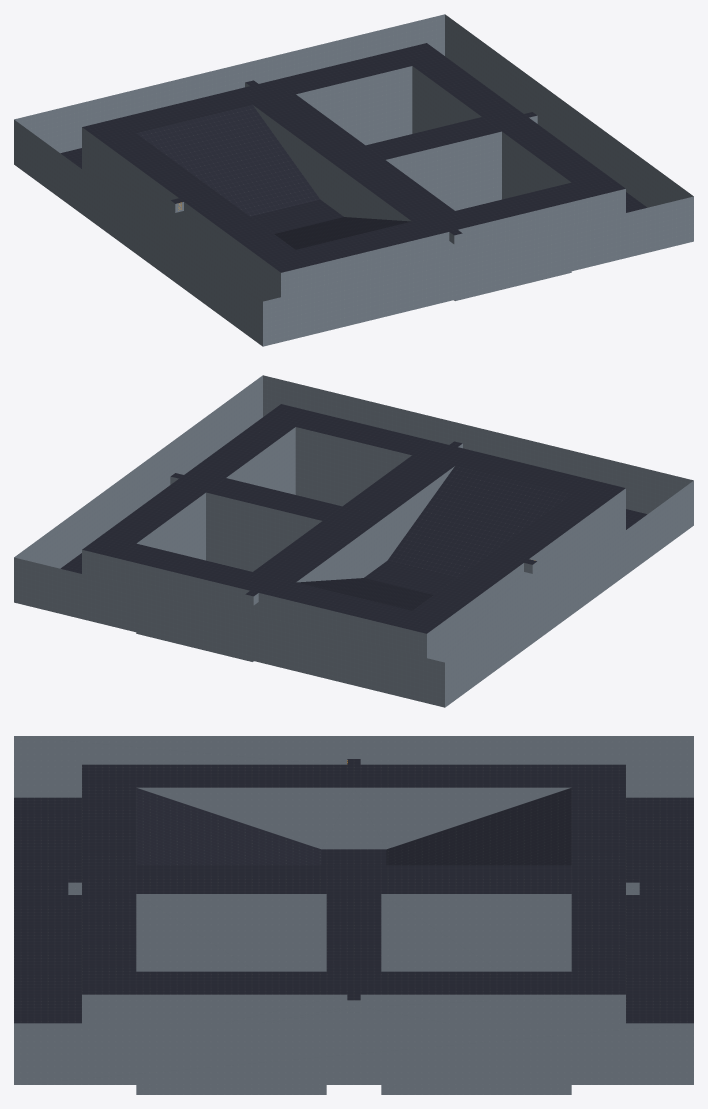
Rendered from Swimming_Environment.FBX.
3 views of the same model, one above another, from view 1: azimuth 30°, elevation 25°; view 2: azimuth 150°, elevation 25°; view 3: azimuth 270°, elevation 25° (orthographic). The views are drawn at different scales.
Visible parts, largest first — view 1: NeoFpsPrototype_Swimming; view 2: NeoFpsPrototype_Swimming; view 3: NeoFpsPrototype_Swimming.
Boxes of the visible parts, x1,y1,x2,y2 form: NeoFpsPrototype_Swimming: (14,14,693,346); NeoFpsPrototype_Swimming: (14,375,693,707); NeoFpsPrototype_Swimming: (14,736,693,1094).
Size of the model in its own units: 10000 by 10000 by 2005.
